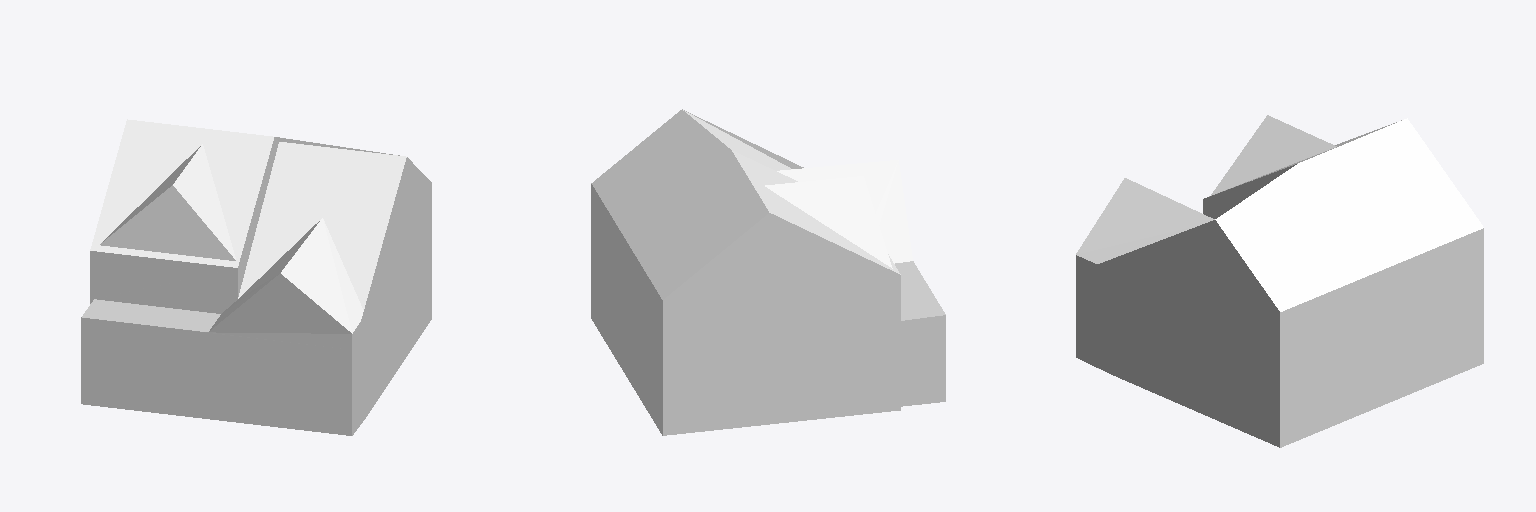
File: house_Shape 310.obj
3 views of the same model, side by side, from view 1: azimuth 30°, elevation 25°; view 2: azimuth 150°, elevation 25°; view 3: azimuth 270°, elevation 25° (orthographic).
Visible parts, largest first — view 1: CityEngineMaterial_4, CityEngineMaterial_163, CityEngineMaterial_209, CityEngineMaterial_75, CityEngineMaterial_161; view 2: CityEngineMaterial_4, CityEngineMaterial_163, CityEngineMaterial_209, CityEngineMaterial_75, CityEngineMaterial_161; view 3: CityEngineMaterial_4, CityEngineMaterial_163, CityEngineMaterial_209, CityEngineMaterial_75.
Boxes of the visible parts, x1,y1,x2,y2 form: CityEngineMaterial_4: [90, 119, 406, 333]; CityEngineMaterial_163: [81, 234, 431, 435]; CityEngineMaterial_209: [81, 137, 431, 351]; CityEngineMaterial_75: [100, 158, 274, 296]; CityEngineMaterial_161: [82, 299, 220, 331]; CityEngineMaterial_4: [591, 110, 912, 299]; CityEngineMaterial_163: [591, 233, 900, 435]; CityEngineMaterial_209: [591, 109, 945, 349]; CityEngineMaterial_75: [901, 316, 945, 406]; CityEngineMaterial_161: [895, 261, 945, 320]; CityEngineMaterial_4: [1076, 115, 1483, 311]; CityEngineMaterial_163: [1076, 273, 1483, 447]; CityEngineMaterial_209: [1076, 164, 1483, 361]; CityEngineMaterial_75: [1203, 173, 1278, 218].
Bounding box in the file's own units: 19.25 × 11.04 × 19.31.